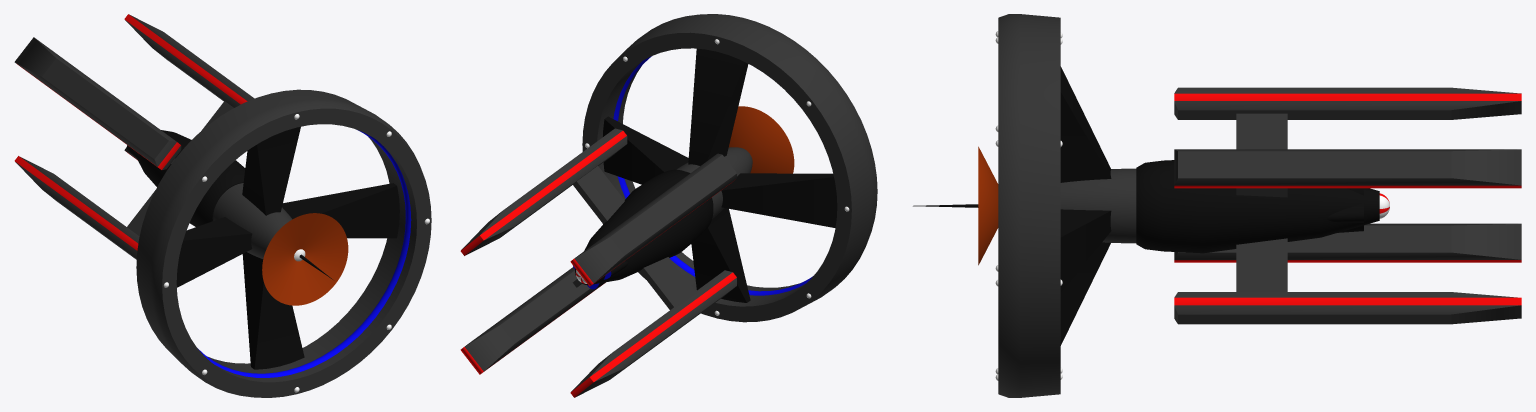
The model's file is ObProbe.FBX.
3 views of the same model, side by side, from view 1: azimuth 30°, elevation 25°; view 2: azimuth 150°, elevation 25°; view 3: azimuth 270°, elevation 25° (orthographic). The views are drawn at different scales.
Parts seen in each view (by area): view 1: Engine, ObProbe, Hull; view 2: Hull, Engine, ObProbe; view 3: Hull, Engine, ObProbe.
Boxes of the visible parts, bbox=[...] form: Engine: bbox=[136, 89, 431, 397]; ObProbe: bbox=[176, 126, 399, 369]; Hull: bbox=[14, 14, 254, 259]; Hull: bbox=[460, 128, 736, 397]; Engine: bbox=[582, 14, 877, 322]; ObProbe: bbox=[603, 48, 837, 302]; Hull: bbox=[1136, 87, 1521, 324]; Engine: bbox=[995, 14, 1062, 397]; ObProbe: bbox=[913, 66, 1136, 345].
Size of the model in its own units: 2 by 2 by 3.2.
